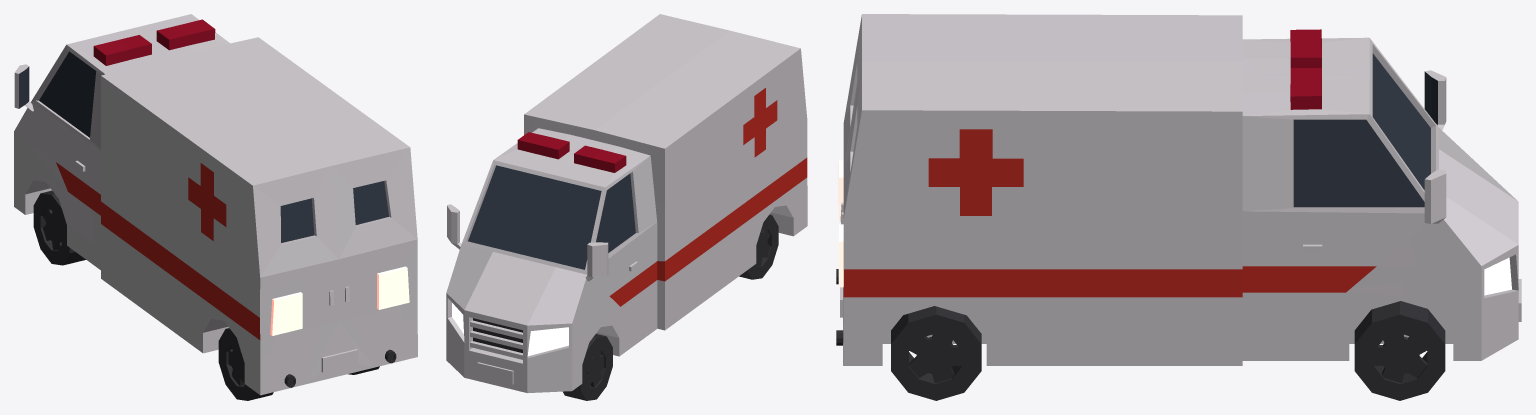
The model's file is rv_ambulance.glb.
3 views of the same model, side by side, from view 1: azimuth 30°, elevation 25°; view 2: azimuth 150°, elevation 25°; view 3: azimuth 270°, elevation 25° (orthographic). The views are drawn at different scales.
Parts seen in each view (by area): view 1: Body, WheelFL, WheelRL; view 2: Body, WheelFL, WheelRL; view 3: Body, WheelFR, WheelRR.
Boxes of the visible parts, x1,y1,x2,y2 form: Body: (14,14,417,395); WheelFL: (33,190,85,265); WheelRL: (218,328,273,400); Body: (446,14,807,393); WheelFL: (563,334,612,400); WheelRL: (739,214,778,279); Body: (836,14,1521,365); WheelFR: (1354,301,1445,400); WheelRR: (891,306,981,400).
Bounding box in the file's own units: 2.05 × 2.6 × 5.4.
